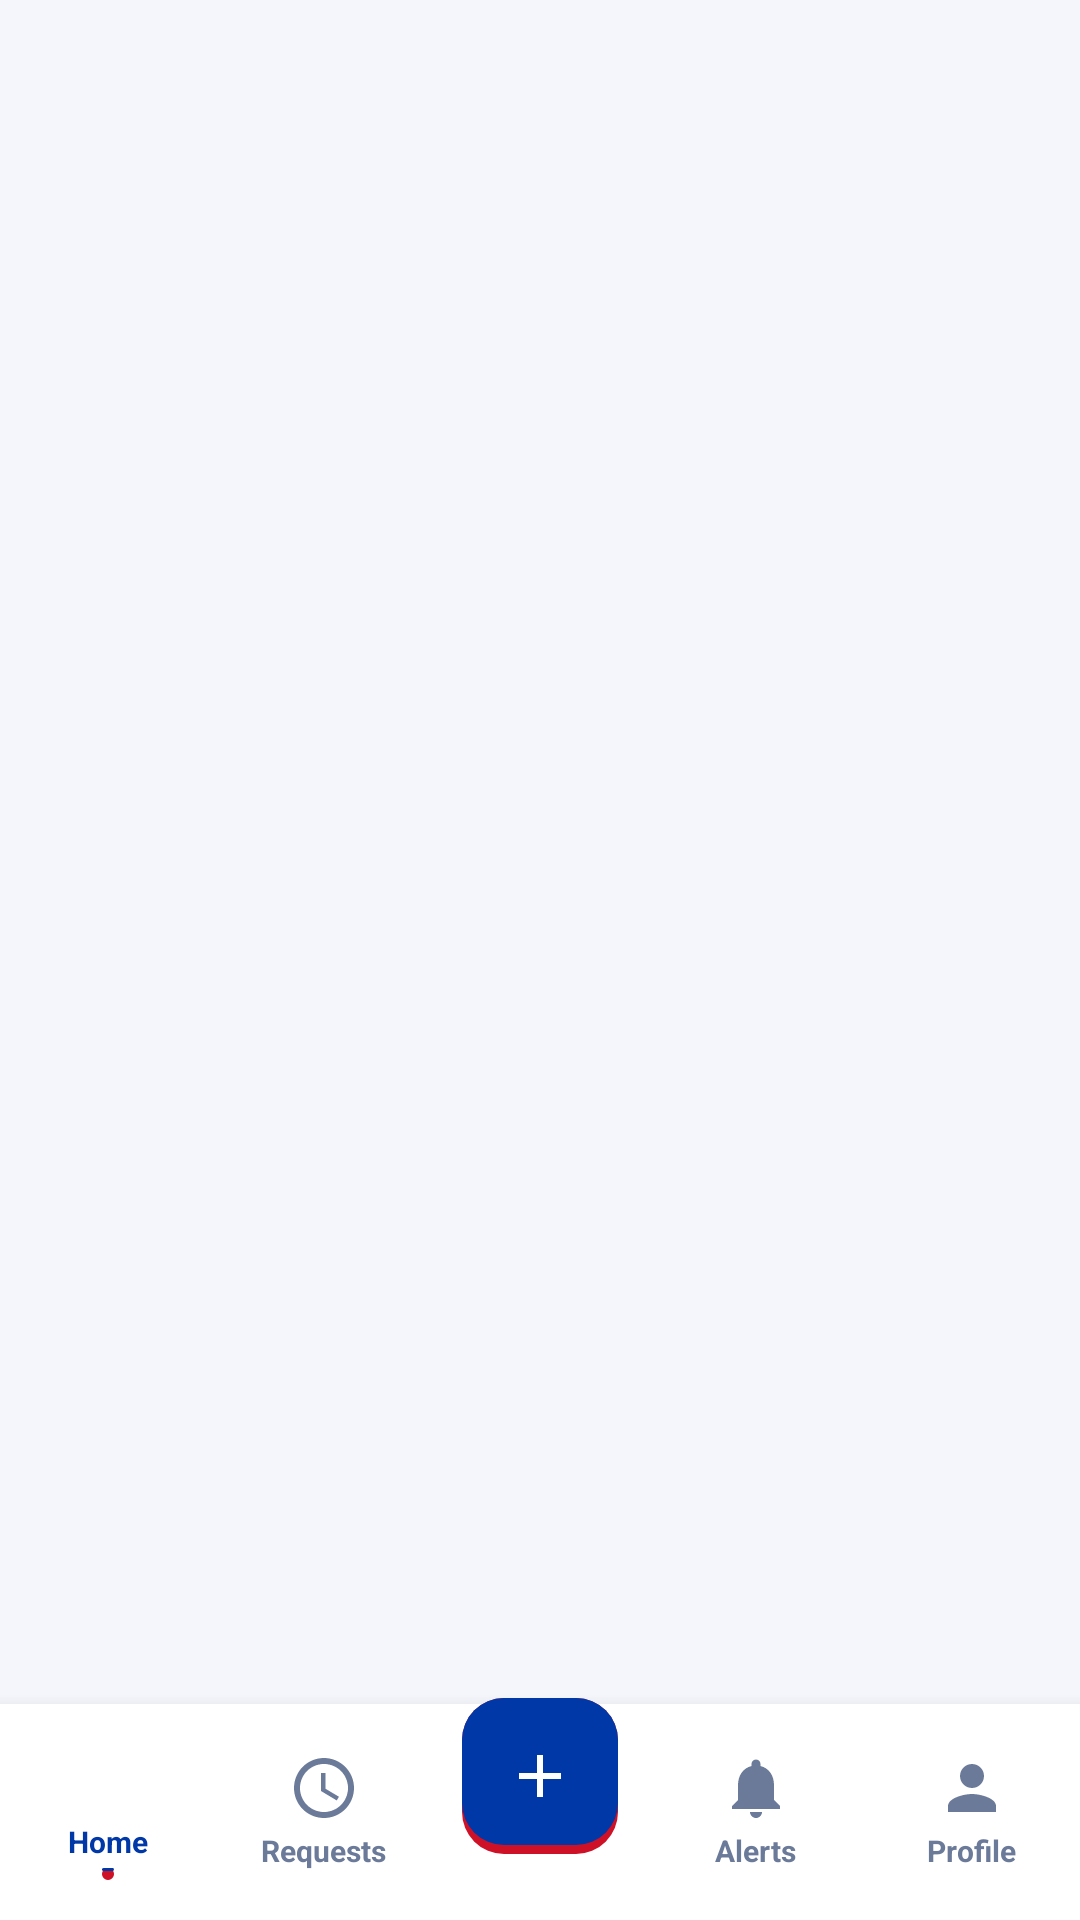

Screen size 1080px x 1920px. Icon name, then its box in pixels as {"x1": x1, "y1": y1, "x2": x2, "y2": y2}:
add: {"x1": 519, "y1": 1755, "x2": 561, "y2": 1797}
clock: {"x1": 294, "y1": 1758, "x2": 354, "y2": 1818}
